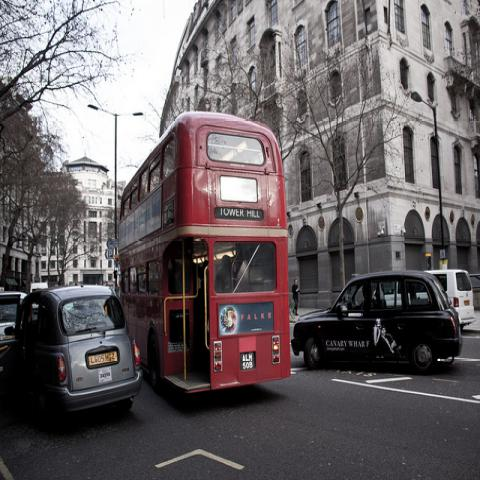bus: (118, 112, 292, 394)
car: (0, 284, 143, 414), (292, 273, 464, 375), (424, 270, 475, 330), (30, 282, 48, 294)
